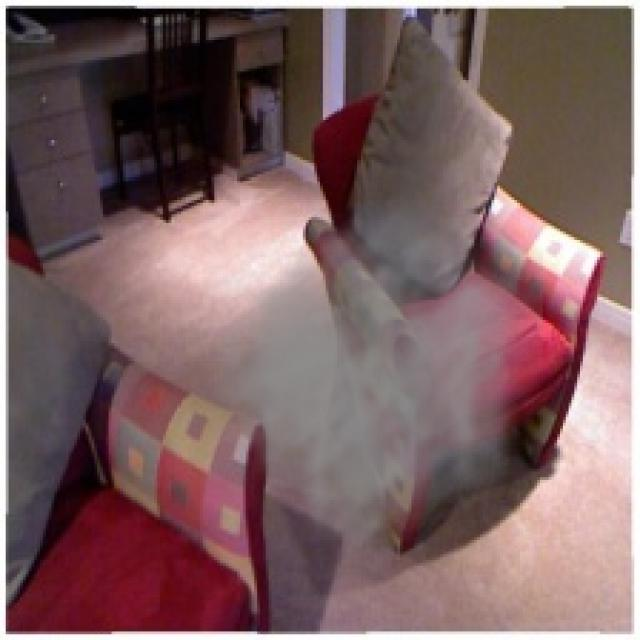smoke: (171, 183, 543, 566)
